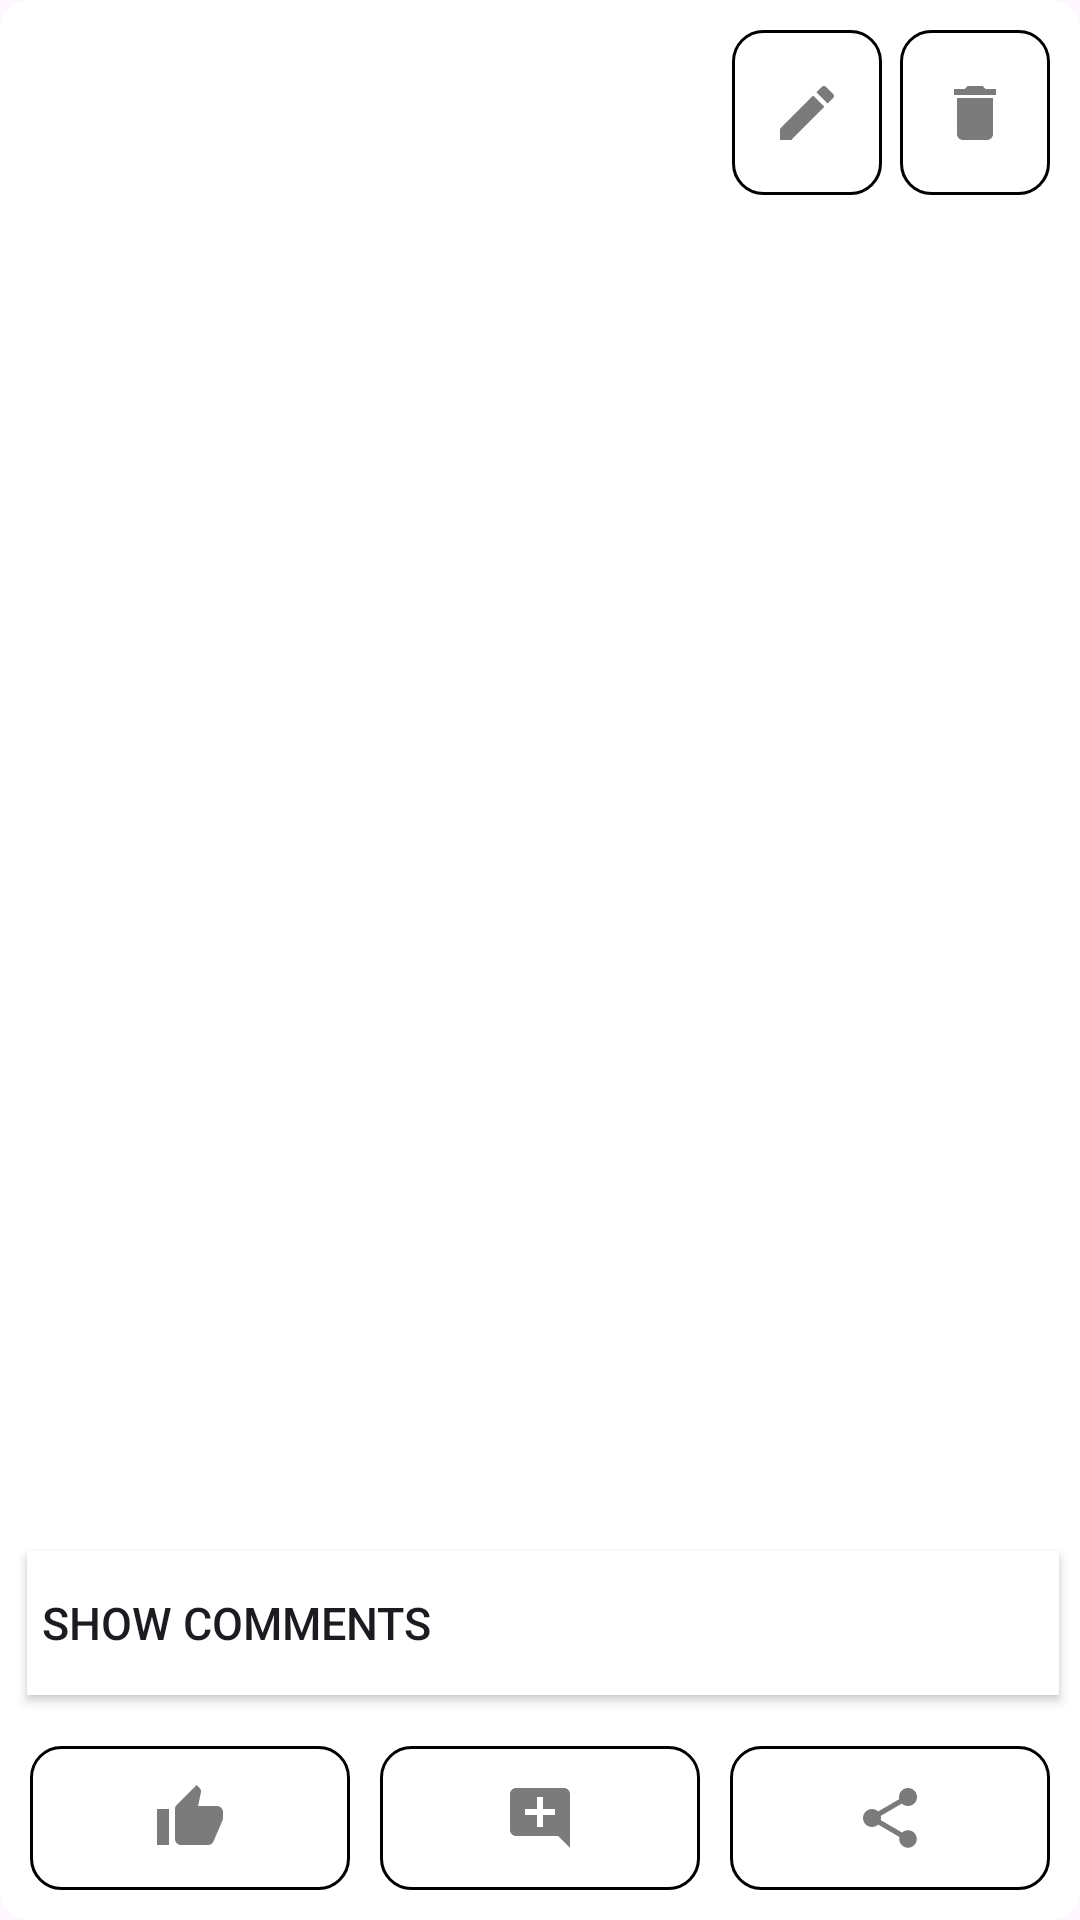

Icons on this 1080w x 1920h Android screen, each with its box as (x1, y1, x2, y2):
delete: (900, 30, 1050, 195)
edit: (732, 30, 882, 195)
Like: (30, 1746, 350, 1890)
Share: (730, 1746, 1050, 1890)
